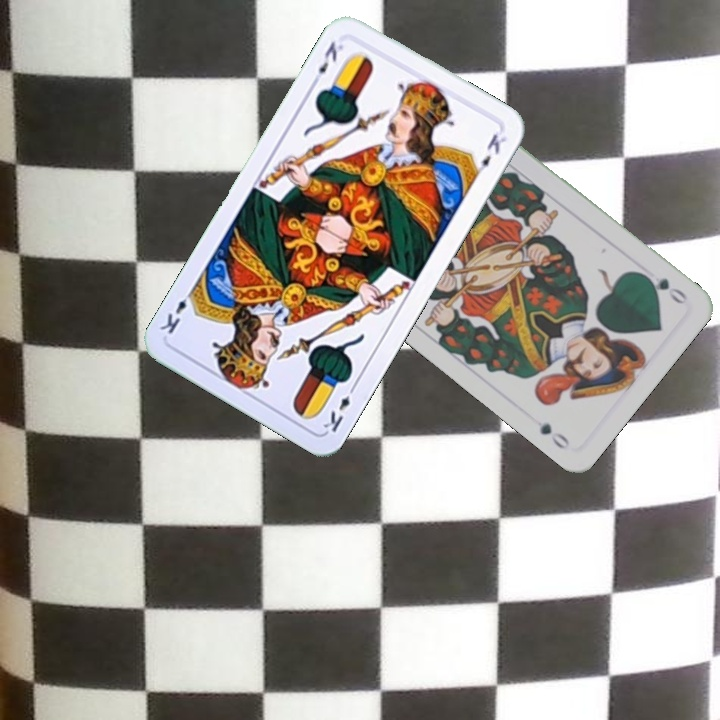EK: (319, 380, 360, 435), (308, 37, 347, 88)
GO: (638, 269, 690, 307)
